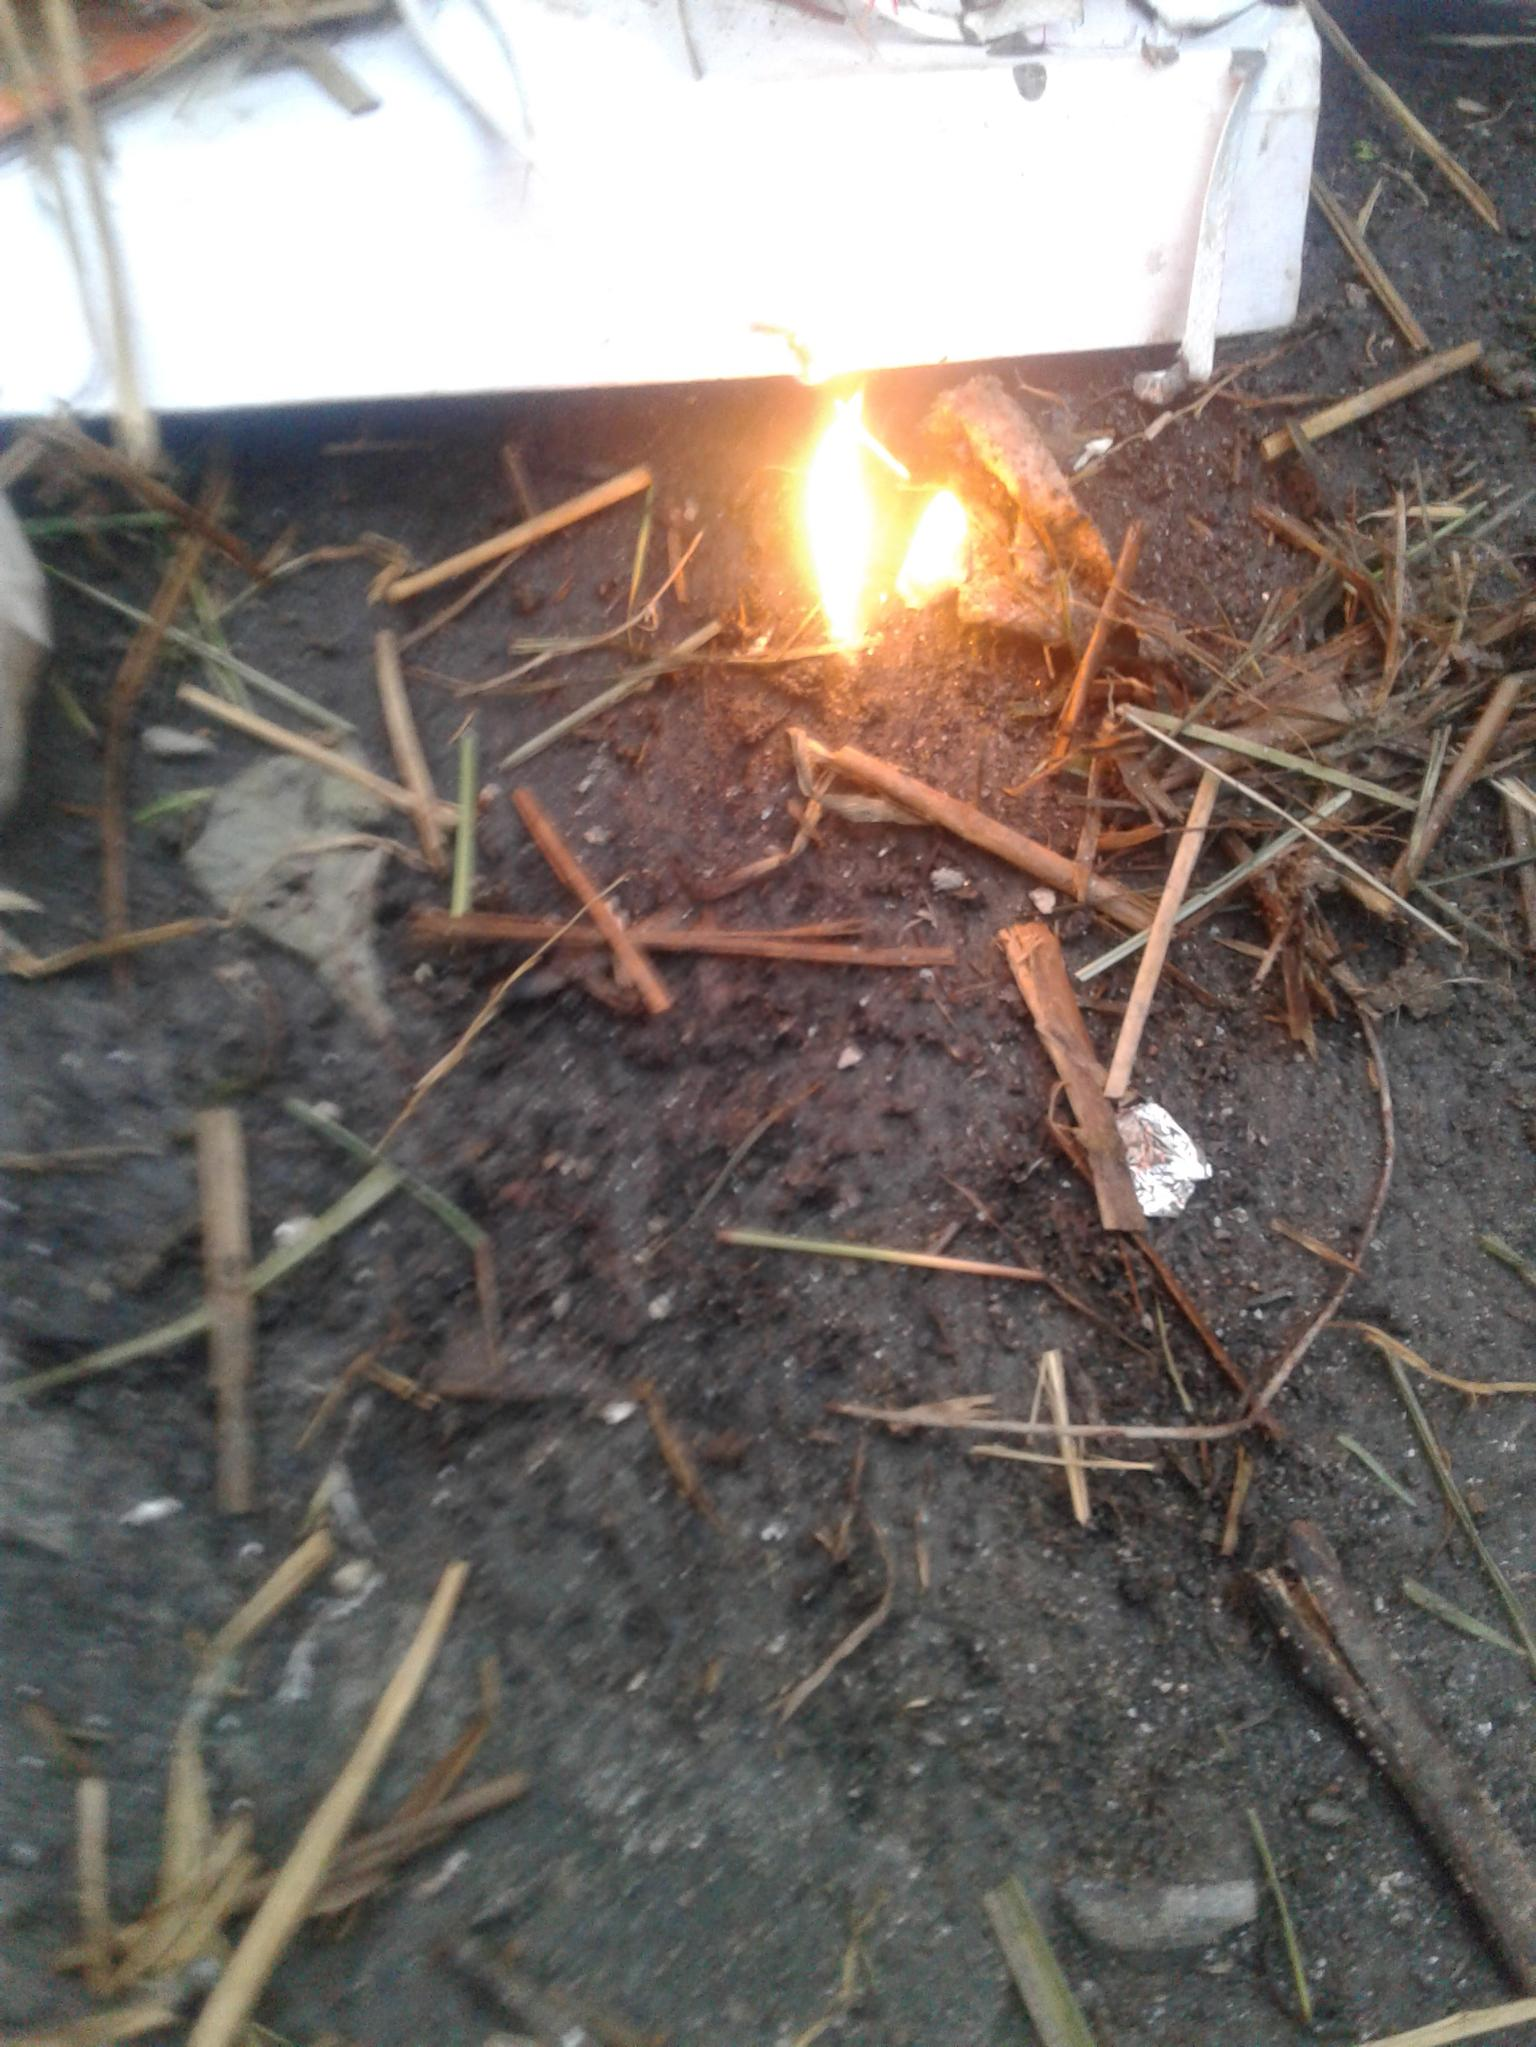Fire: (783, 382, 986, 665)
